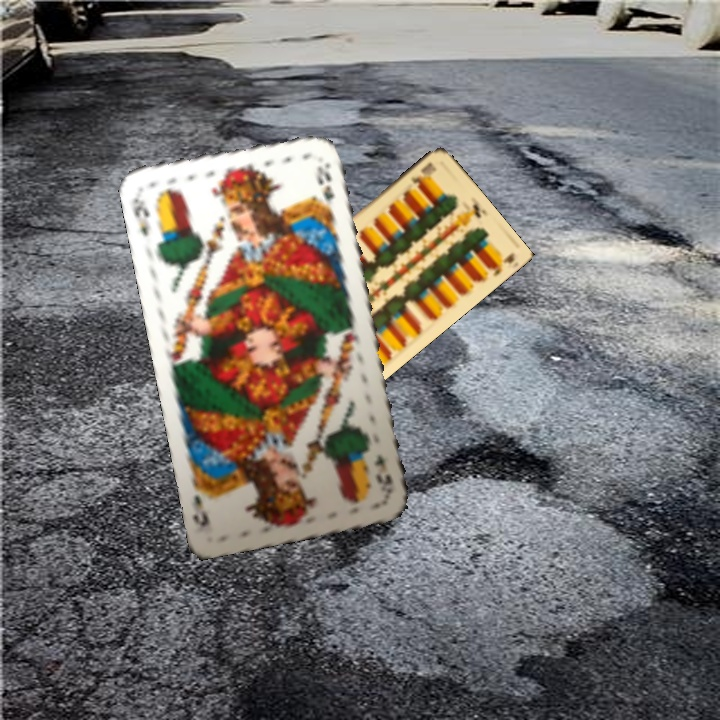E10: (407, 158, 439, 189)
EK: (127, 190, 152, 239), (370, 450, 395, 492)
